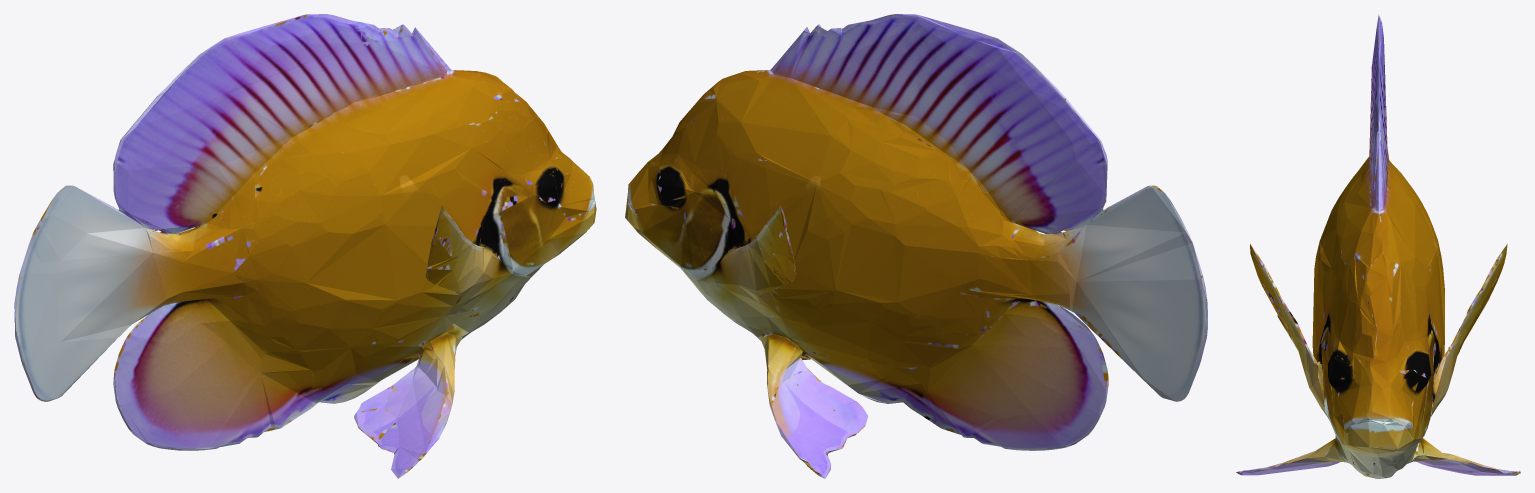
File: fish_0088_smpl23_resized.glb
3 renders of one model, left to right at view 1: azimuth 30°, elevation 25°; view 2: azimuth 150°, elevation 25°; view 3: azimuth 270°, elevation 25°, orthographic.
Visible parts, largest first — view 1: world; view 2: world; view 3: world.
Boxes of the visible parts, x1,y1,x2,y2 form: world: (14, 14, 596, 478); world: (625, 14, 1207, 478); world: (1236, 14, 1520, 478).
Size of the model in its own units: 1.99 by 1.37 by 0.8587.
1 material, 1 textured.
